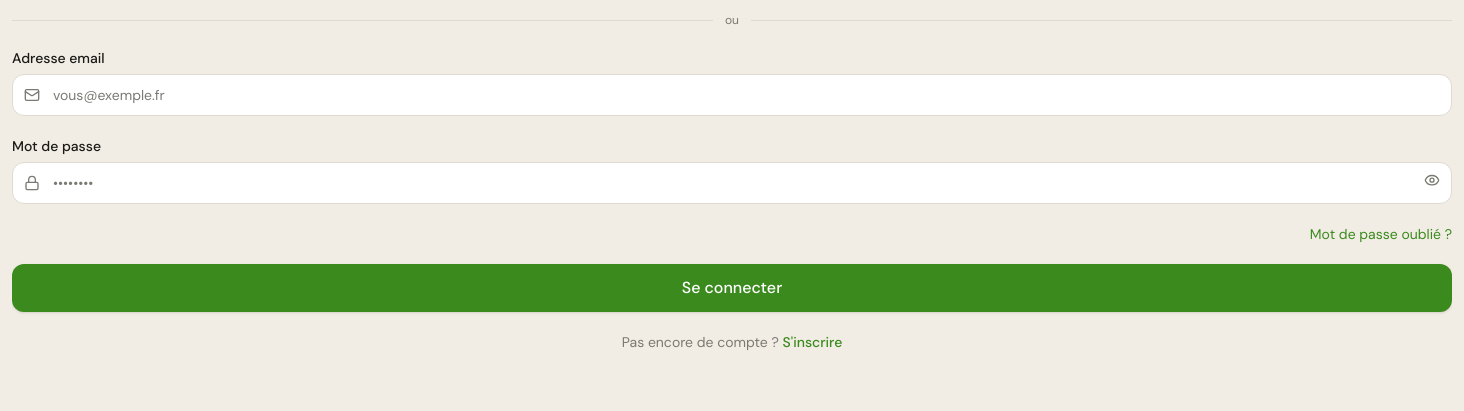
LoginForm — validation › affiche les erreurs email et mot de passe si soumis vide
The width and height of the screenshot is (1464, 411).
Click the button "Se connecter".
click(732, 288)  # box [12, 264, 1452, 312]
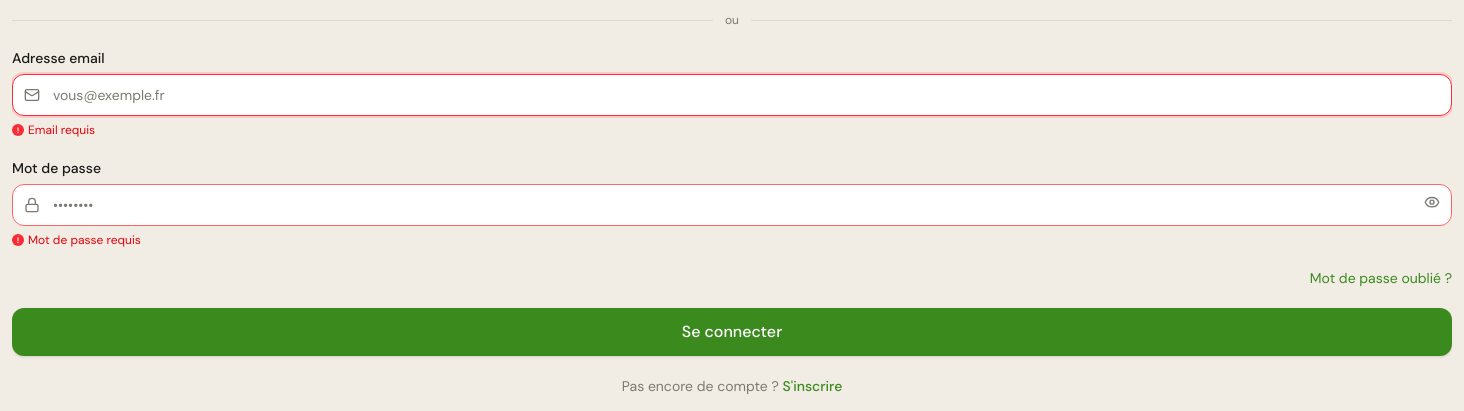
Now the text "Email requis" is shown, box [28, 122, 95, 138]
Now the text "Mot de passe requis" is shown, box [28, 232, 141, 248]
